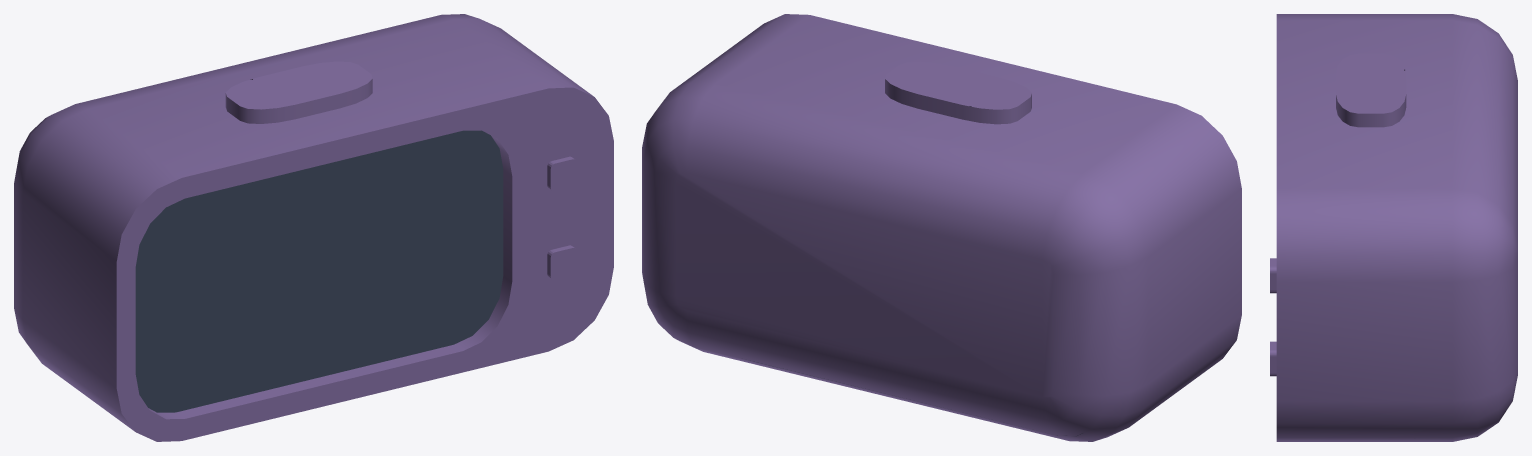
The model's file is Reloj.fbx.
3 renders of one model, left to right at view 1: azimuth 30°, elevation 25°; view 2: azimuth 150°, elevation 25°; view 3: azimuth 270°, elevation 25°, orthographic. The views are drawn at different scales.
Visible parts, largest first — view 1: boton; view 2: boton; view 3: boton.
Part boxes in pixels (x1,y1,x2,y2): boton: (14, 14, 613, 441); boton: (642, 14, 1241, 441); boton: (1270, 14, 1517, 441).
Bounding box in the file's own units: 30.65 × 16.36 × 14.1.
